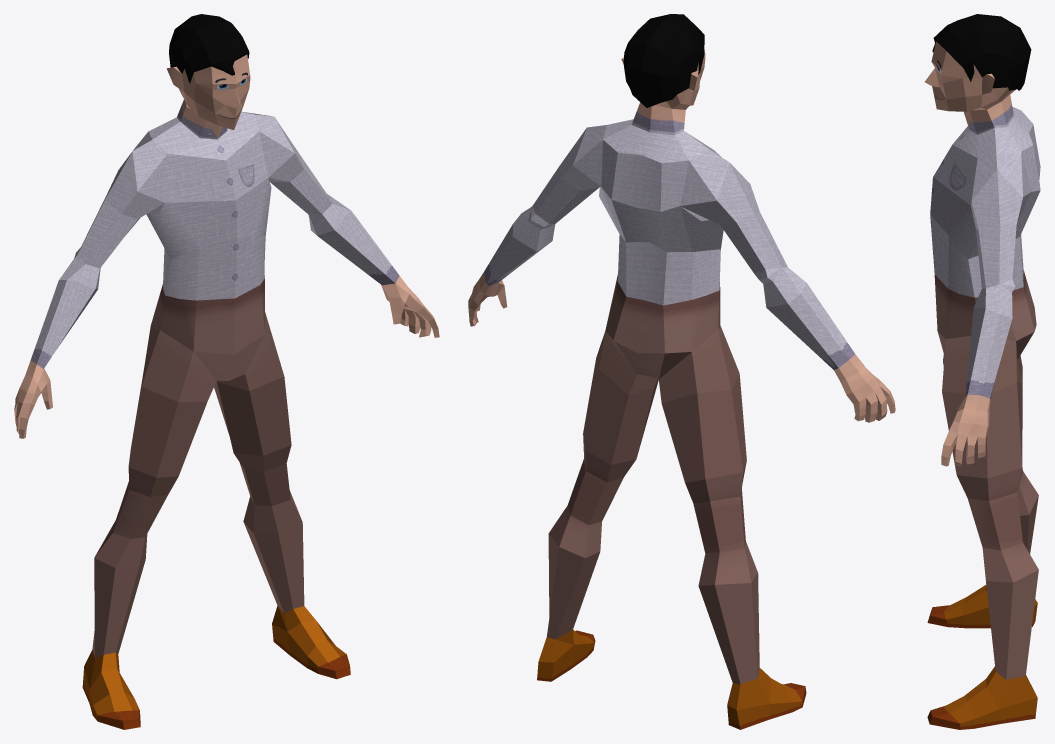
File: TestPlayerFinal.fbx
3 views of the same model, side by side, from view 1: azimuth 30°, elevation 25°; view 2: azimuth 150°, elevation 25°; view 3: azimuth 270°, elevation 25° (orthographic). The views are drawn at different scales.
Visible parts, largest first — view 1: Cube; view 2: Cube; view 3: Cube.
Boxes of the visible parts, x1,y1,x2,y2 form: Cube: [14, 14, 439, 729]; Cube: [468, 14, 895, 729]; Cube: [924, 14, 1040, 729].
Size of the model in its own units: 5.36 by 8.12 by 1.31.
